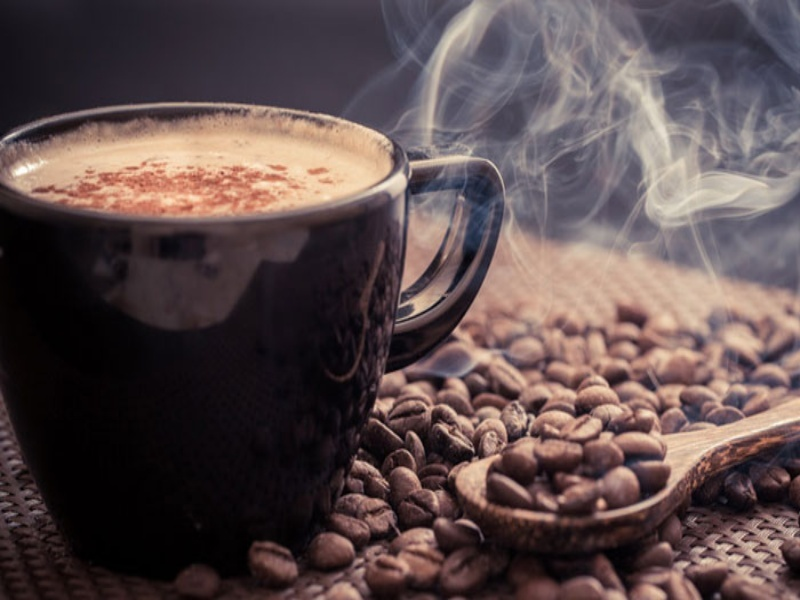smoke: (387, 4, 797, 226)
